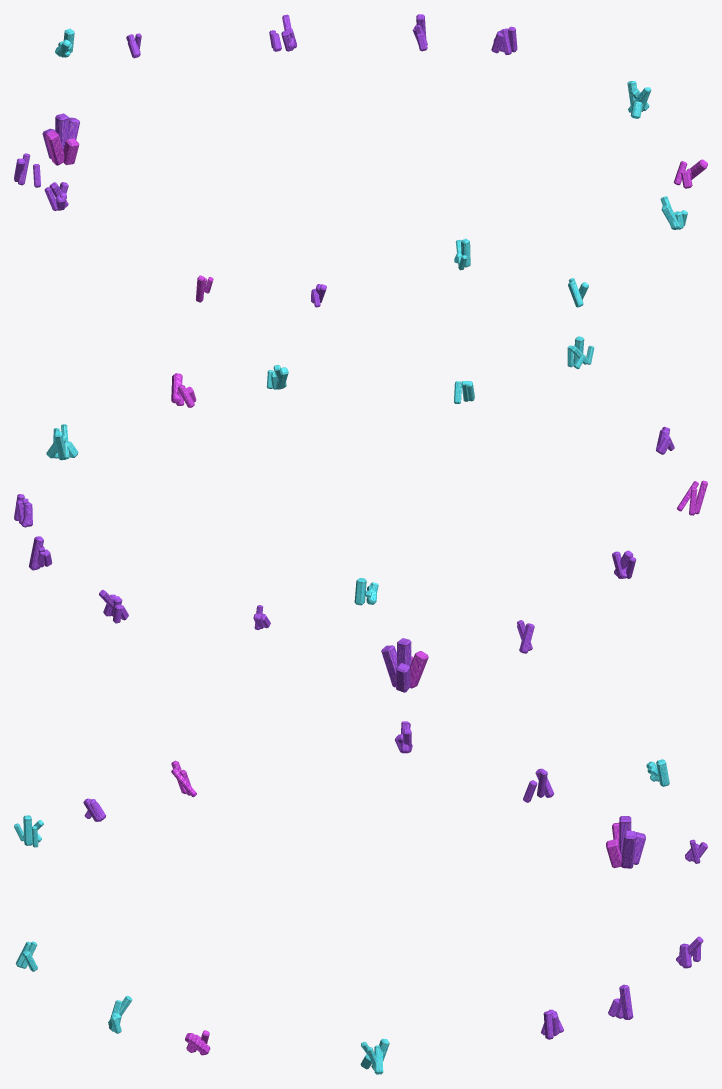
Rendered from env_hole_crystals.fbx.
3 views of the same model, one above another, from view 1: azimuth 30°, elevation 25°; view 2: azimuth 150°, elevation 25°; view 3: azimuth 270°, elevation 25° (orthographic). The views are drawn at different scales.
Visible parts, largest first — view 1: env_hole_crystals; view 2: env_hole_crystals; view 3: env_hole_crystals.
Part boxes in pixels (x1,y1,x2,y2): env_hole_crystals: [14, 14, 707, 307]; env_hole_crystals: [14, 336, 707, 692]; env_hole_crystals: [14, 721, 707, 1074].
Size of the model in its own units: 81.89 by 15.03 by 80.35.
1 material, 1 textured.
